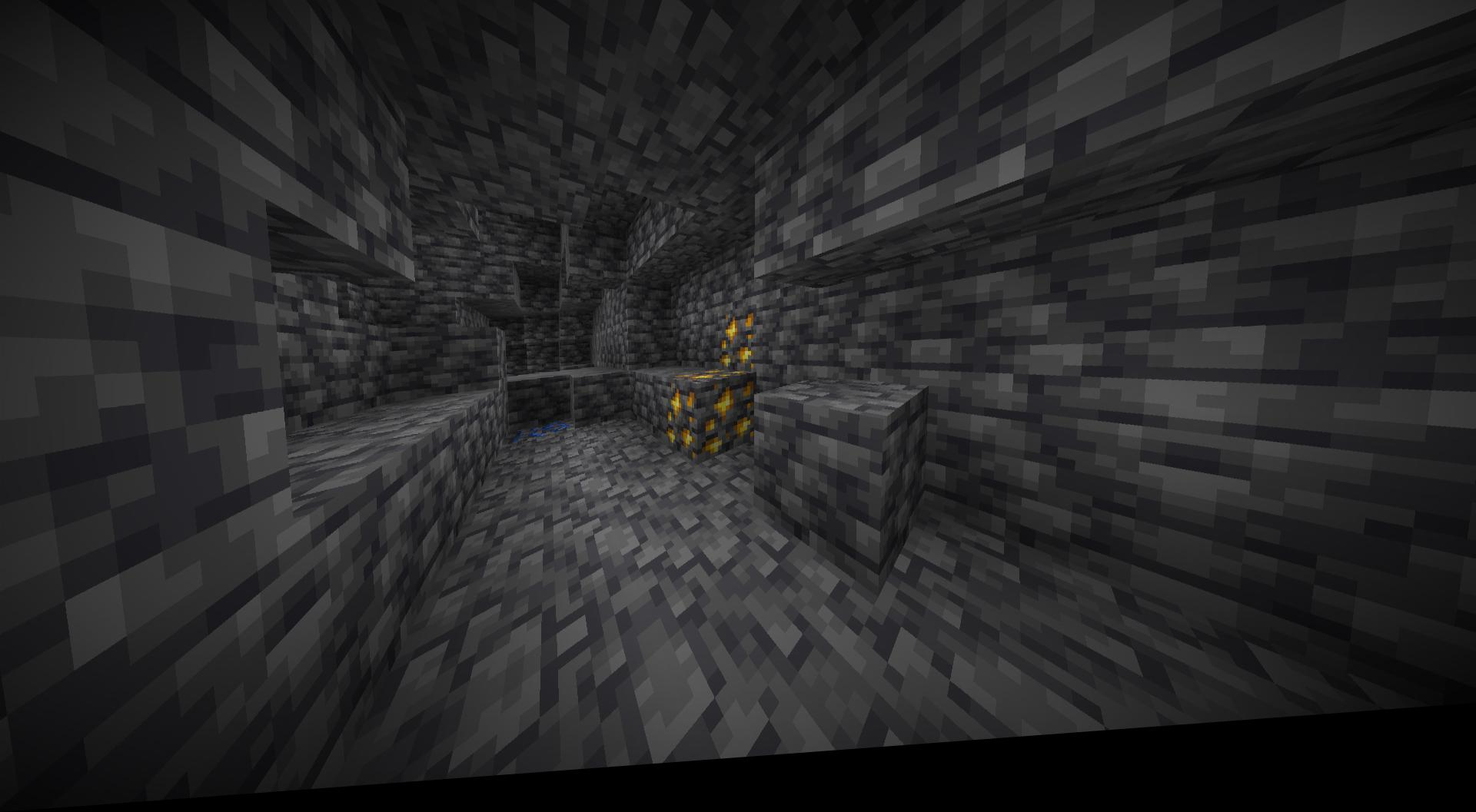gold ore: (704, 388, 756, 470), (718, 322, 759, 386), (667, 391, 697, 461)
